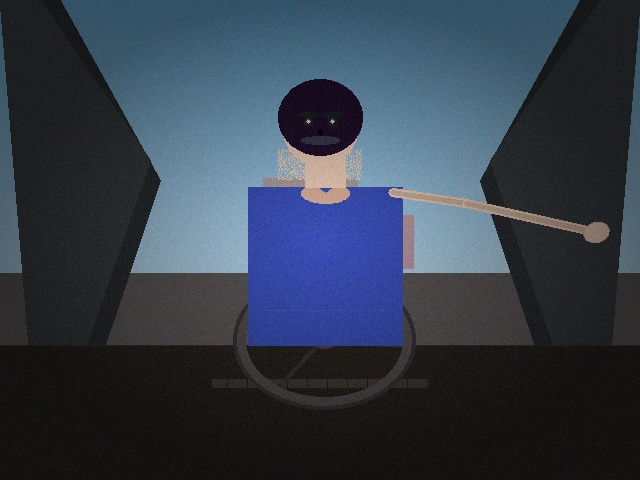hands_off_wheel: (571, 210, 621, 253)
